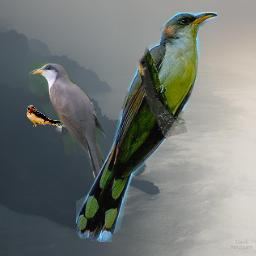Cuckoo: (76, 12, 217, 242), (29, 61, 114, 195)
Swallow: (26, 105, 65, 129)
